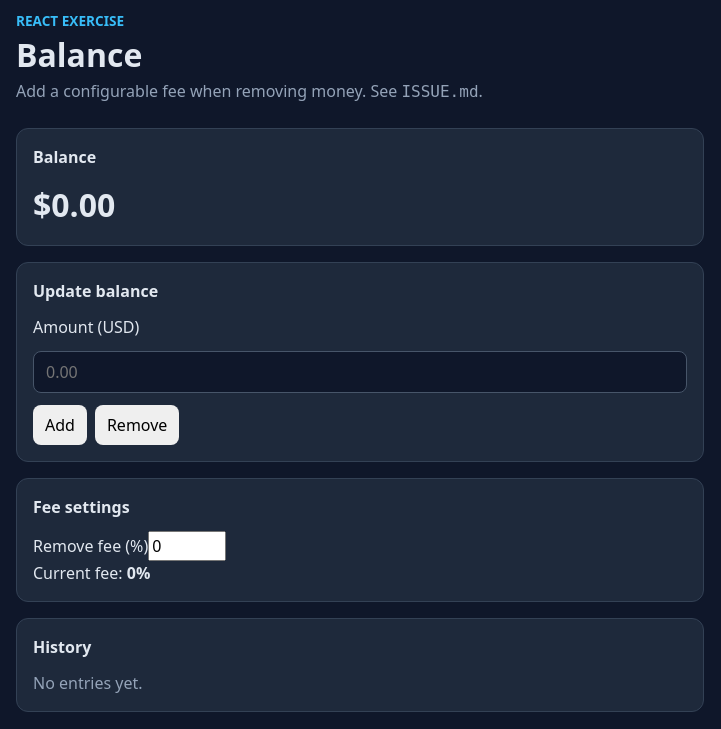
Scenario: App › records an add entry
Type "25" into the field labelled "Amount (USD)" at (360, 372), box [33,351,687,393]
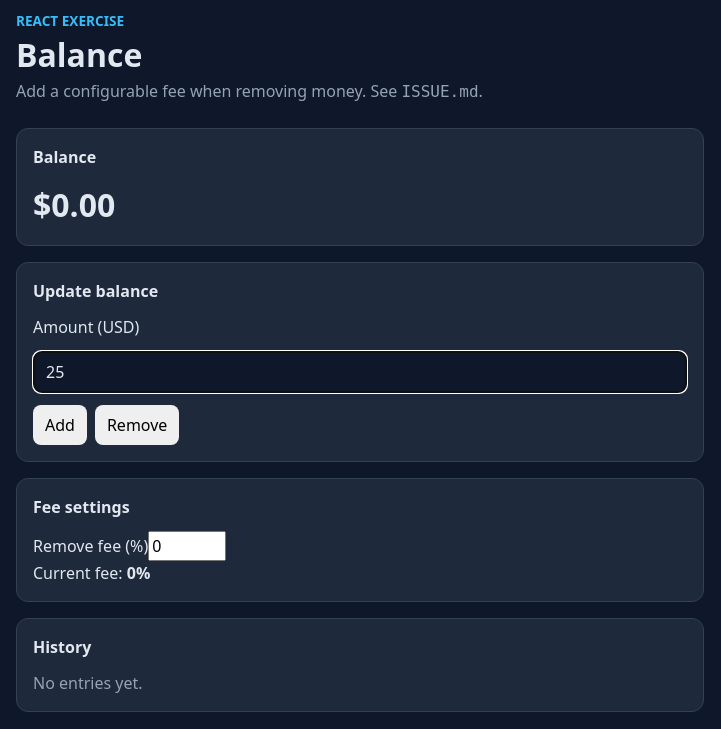
Click the button "Add" at (60, 425), box [33,405,87,445]
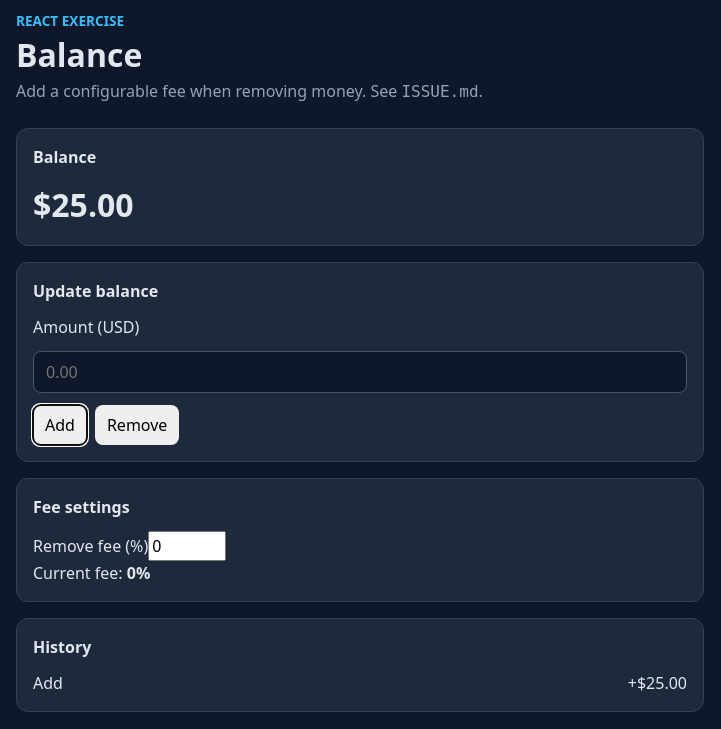
Check: the text "$25.00" is shown, box [33,183,134,226]
